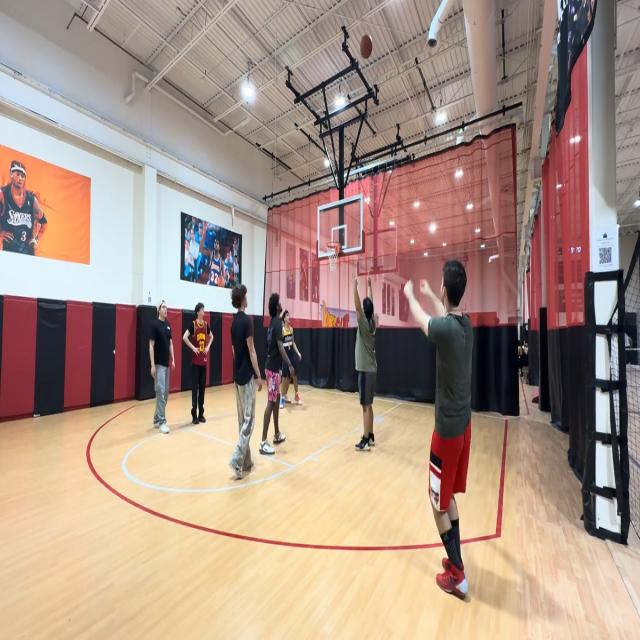Basketball: (360, 34, 372, 58)
Basketball Rim: (326, 241, 341, 272)
Player: (408, 259, 474, 607), (229, 282, 262, 480), (351, 272, 378, 454), (260, 290, 287, 458), (182, 301, 215, 427), (147, 299, 175, 431), (284, 302, 298, 410)
